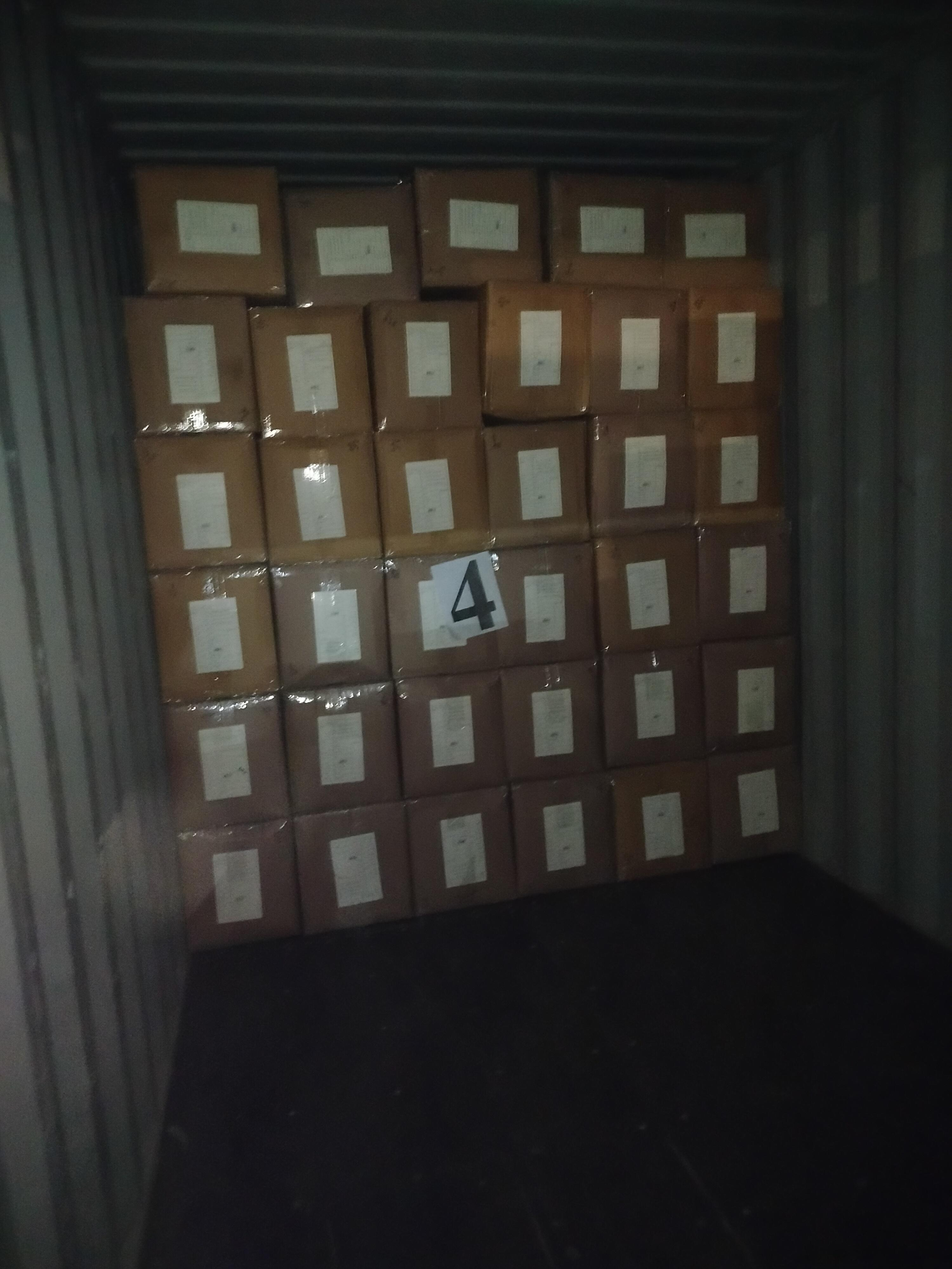carton: (133, 163, 286, 300), (122, 295, 258, 435), (133, 431, 267, 569), (149, 565, 279, 703), (162, 694, 289, 831), (282, 183, 419, 306), (248, 305, 372, 438), (475, 280, 591, 422), (259, 432, 382, 565), (413, 166, 542, 292), (177, 817, 300, 948), (269, 557, 389, 690), (365, 299, 482, 431), (294, 801, 411, 933), (284, 681, 400, 813), (374, 426, 490, 557), (384, 552, 498, 678), (406, 785, 516, 914), (396, 669, 506, 797), (483, 418, 590, 549), (546, 172, 665, 286), (586, 411, 695, 535), (595, 526, 699, 652), (493, 541, 597, 666), (511, 772, 615, 895), (589, 286, 688, 413), (602, 645, 704, 767), (501, 658, 602, 781), (609, 759, 711, 879), (697, 515, 794, 641), (687, 286, 784, 410), (664, 180, 769, 288), (702, 635, 798, 753), (708, 745, 802, 863), (693, 408, 784, 524)
